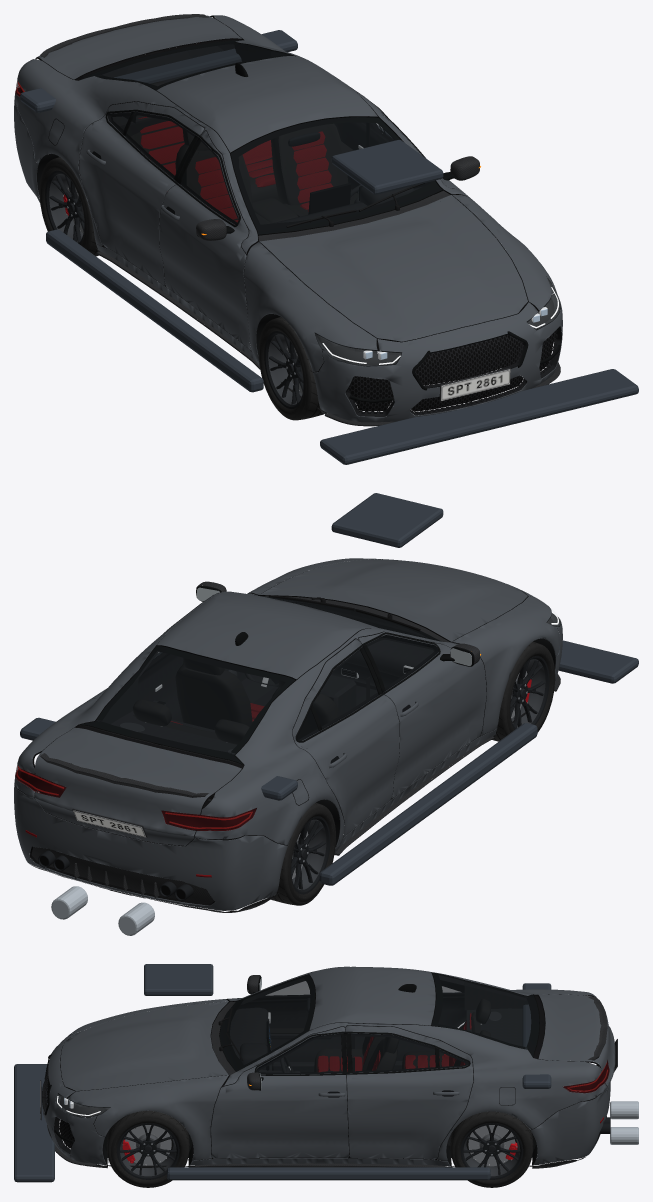
Rendered from car_e36_sprint.glb.
The picture shows the model from 3 angles, top to bottom: view 1: azimuth 30°, elevation 25°; view 2: azimuth 150°, elevation 25°; view 3: azimuth 270°, elevation 25°; orthographic projection. The views are drawn at different scales.
Visible parts, largest first — view 1: Body, Mod_Splitter, Mod_Skirt_-1, Wheel_FR, Mod_Hood, Wheel_RR, Mod_Wing; view 2: Body, Mod_Skirt_-1, Wheel_RR, Mod_Hood, Wheel_FR, Mod_Splitter, Mod_Wing, Mod_Exhaust_-1, Mod_Exhaust_1; view 3: Body, Wheel_FL, Wheel_RL, Mod_Skirt_1, Mod_Splitter, Mod_Hood, Mod_Wing, Mod_Exhaust_-1, Mod_Exhaust_1.
Part boxes in pixels (bbox=[...]): Body: bbox=[14, 14, 562, 426]; Mod_Splitter: bbox=[320, 369, 638, 464]; Mod_Skirt_-1: bbox=[46, 229, 263, 392]; Wheel_FR: bbox=[258, 317, 326, 420]; Mod_Hood: bbox=[331, 140, 443, 194]; Wheel_RR: bbox=[39, 157, 99, 256]; Mod_Wing: bbox=[20, 30, 297, 112]; Body: bbox=[14, 558, 562, 912]; Mod_Skirt_-1: bbox=[319, 723, 537, 885]; Wheel_RR: bbox=[267, 803, 335, 905]; Mod_Hood: bbox=[331, 493, 443, 547]; Wheel_FR: bbox=[492, 642, 555, 741]; Mod_Splitter: bbox=[558, 640, 638, 683]; Mod_Wing: bbox=[20, 717, 297, 800]; Mod_Exhaust_-1: bbox=[118, 902, 154, 935]; Mod_Exhaust_1: bbox=[51, 886, 87, 919]; Body: bbox=[40, 966, 617, 1168]; Wheel_FL: bbox=[106, 1111, 189, 1187]; Wheel_RL: bbox=[450, 1111, 533, 1187]; Mod_Skirt_1: bbox=[167, 1167, 490, 1180]; Mod_Splitter: bbox=[14, 1064, 54, 1182]; Mod_Hood: bbox=[144, 964, 213, 995]; Mod_Wing: bbox=[522, 983, 551, 1088]; Mod_Exhaust_-1: bbox=[610, 1101, 638, 1119]; Mod_Exhaust_1: bbox=[610, 1127, 638, 1144].
Size of the model in its own units: 2.23 by 1.52 by 5.2.
Materials: 61 (12 with a texture image).
